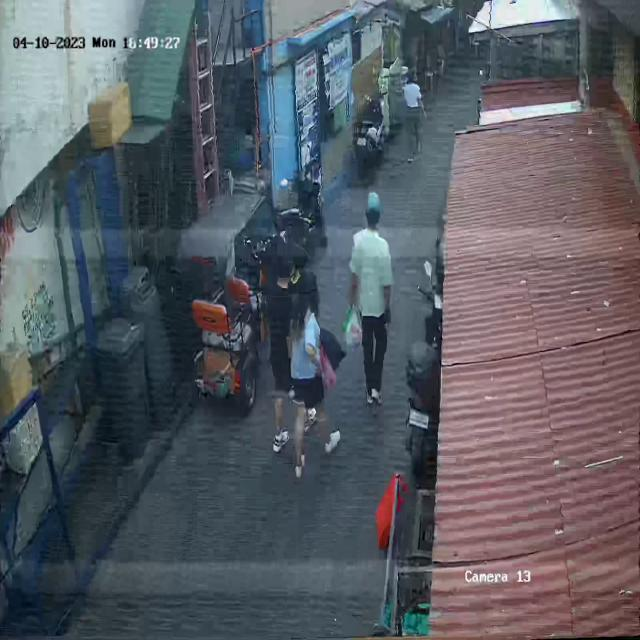human: (289, 267, 347, 479), (342, 191, 393, 411)
trash: (318, 318, 344, 394), (345, 299, 364, 356)
